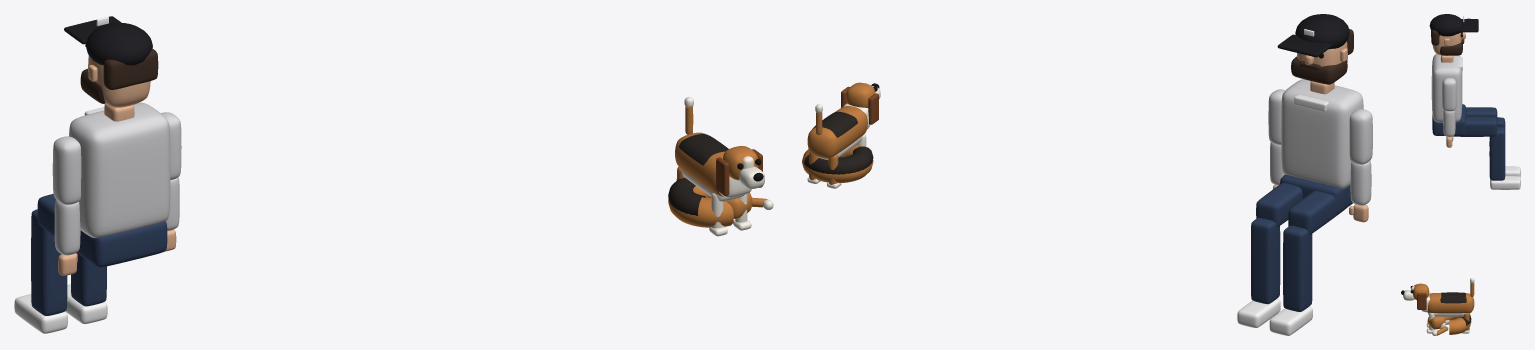
Rendered from actors.glb.
The picture shows the model from 3 angles, left to right: view 1: azimuth 30°, elevation 25°; view 2: azimuth 150°, elevation 25°; view 3: azimuth 270°, elevation 25°; orthographic projection. The views are drawn at different scales.
Parts seen in each view (by area): view 1: shirtBody, jeansShinL, jeansHips, capDome, shirtArmL, jeansShinR, hairBack, shirtForearmL, curlBody, dogBody, head, shoeL (+6 smaller); view 2: shirtBody, jeansShinL, jeansShinR, dogBody, jeansThighL, capDome, jeansThighR, shirtArmL, curlSaddle, jeansHips, shirtForearmL, beardJaw (+9 smaller); view 3: shirtBody, jeansShinR, dogBody, jeansThighR, capDome, shirtArmR, jeansHips, shoeR, curlBody, shirtForearmR, jeansThighL, dogSaddle (+9 smaller).
Boxes of the visible parts, x1=… form: shirtBody: x1=69, y1=102, x2=170, y2=237; jeansShinL: x1=31, y1=209, x2=67, y2=315; jeansHips: x1=77, y1=221, x2=167, y2=267; capDome: x1=86, y1=22, x2=152, y2=65; shirtArmL: x1=52, y1=136, x2=81, y2=204; jeansShinR: x1=71, y1=253, x2=106, y2=306; hairBack: x1=103, y1=49, x2=158, y2=89; shirtForearmL: x1=54, y1=199, x2=80, y2=255; curlBody: x1=668, y1=186, x2=749, y2=227; dogBody: x1=675, y1=132, x2=724, y2=196; head: x1=88, y1=55, x2=150, y2=107; shoeL: x1=14, y1=294, x2=67, y2=333; shirtBody: x1=1281, y1=79, x2=1363, y2=188; jeansShinL: x1=1283, y1=225, x2=1312, y2=311; jeansShinR: x1=1251, y1=217, x2=1280, y2=304; dogBody: x1=807, y1=106, x2=867, y2=158; jeansThighL: x1=1288, y1=191, x2=1344, y2=234; capDome: x1=1295, y1=14, x2=1349, y2=49; jeansThighR: x1=1256, y1=183, x2=1302, y2=226; shirtArmL: x1=1349, y1=109, x2=1372, y2=164; curlSaddle: x1=804, y1=146, x2=873, y2=174; jeansHips: x1=1280, y1=174, x2=1352, y2=214; shirtForearmL: x1=1350, y1=160, x2=1371, y2=205; beardJaw: x1=1291, y1=56, x2=1347, y2=84; shirtBody: x1=1431, y1=54, x2=1462, y2=122; jeansShinR: x1=1489, y1=127, x2=1505, y2=180; dogBody: x1=1427, y1=293, x2=1474, y2=313; jeansThighR: x1=1453, y1=117, x2=1497, y2=136; capDome: x1=1429, y1=14, x2=1464, y2=36; shirtArmR: x1=1442, y1=78, x2=1456, y2=111; jeansHips: x1=1432, y1=104, x2=1466, y2=135; shoeR: x1=1490, y1=176, x2=1520, y2=189; curlBody: x1=1427, y1=316, x2=1471, y2=334; shirtForearmR: x1=1443, y1=110, x2=1455, y2=136; jeansThighL: x1=1466, y1=107, x2=1497, y2=120; dogSaddle: x1=1440, y1=292, x2=1466, y2=303.
Size of the model in its own units: 3.54 by 1.62 by 1.05.
